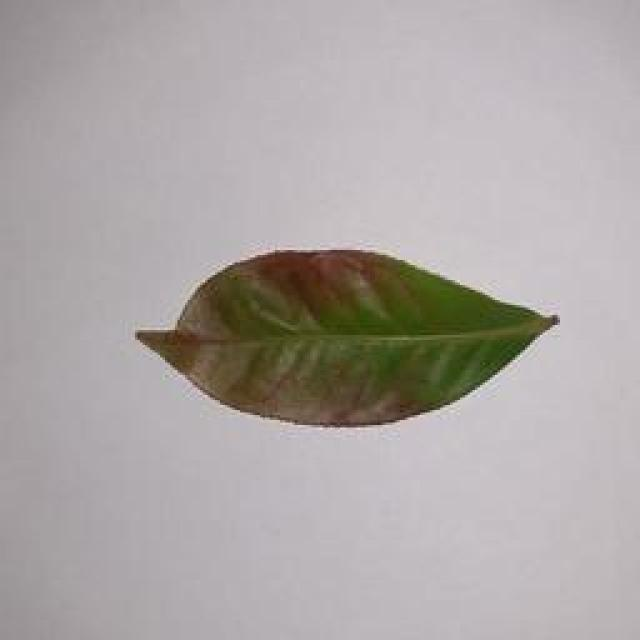Red Leaf Spot: (60, 216, 569, 440)
